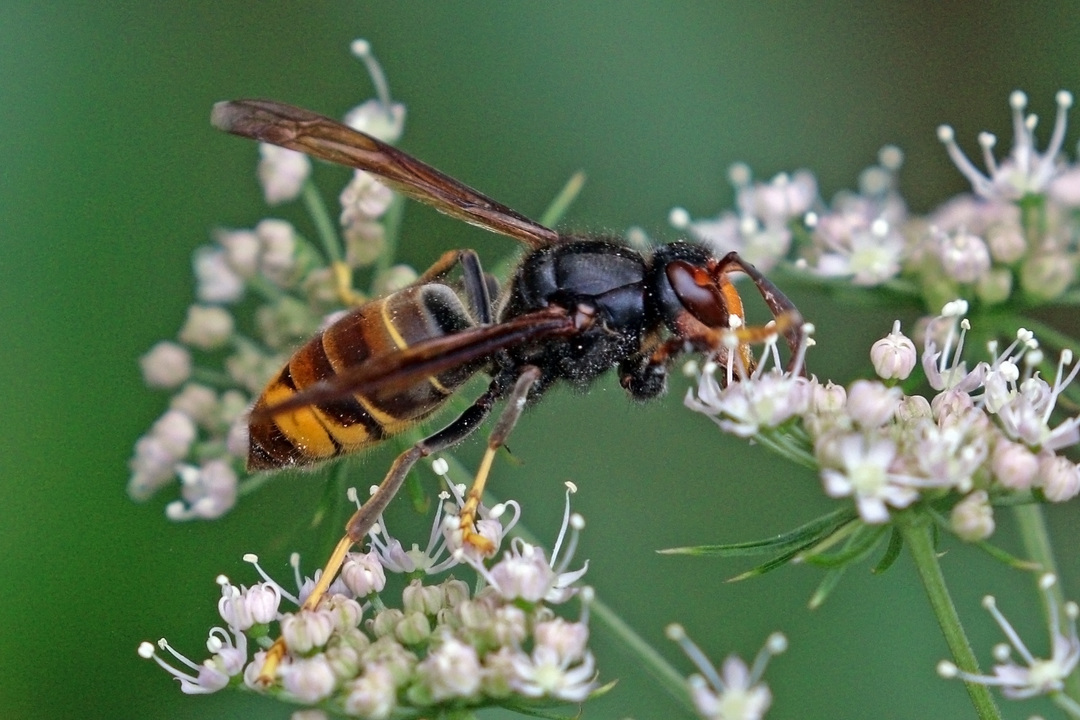hornet: (204, 151, 841, 508)
